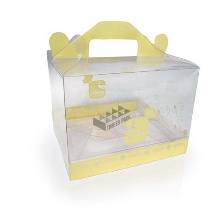plastic_box: (36, 11, 206, 187)
